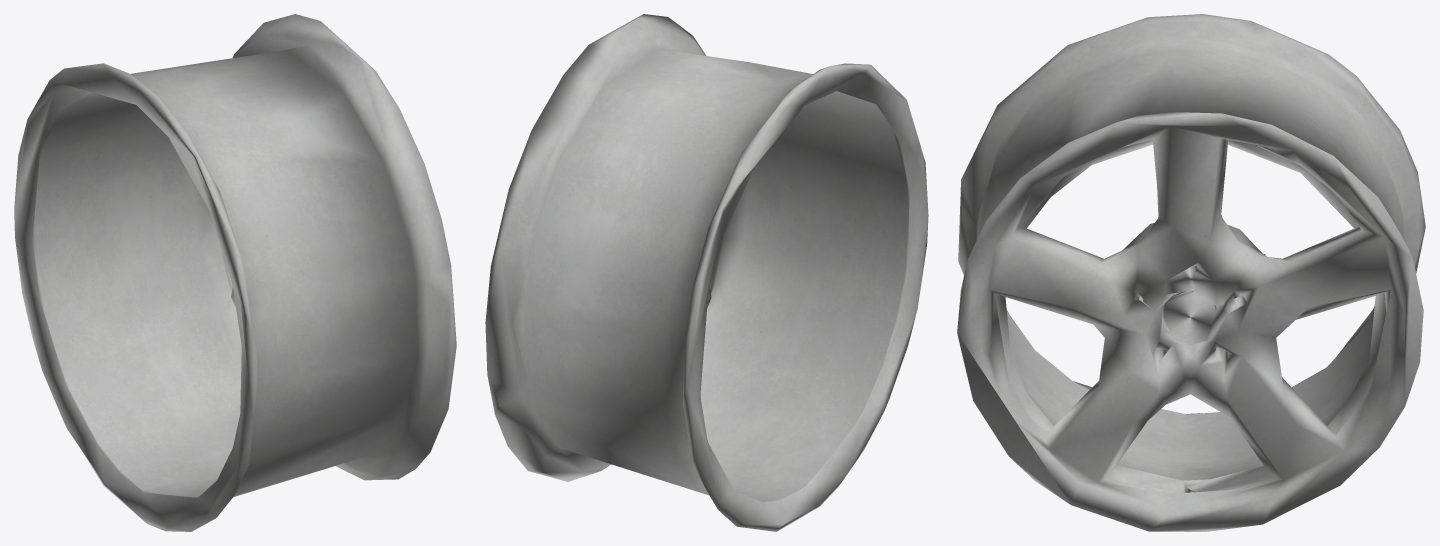
Rendered from wheelAssembly_wheel_rim_a01.glb.
The picture shows the model from 3 angles, left to right: view 1: azimuth 30°, elevation 25°; view 2: azimuth 150°, elevation 25°; view 3: azimuth 270°, elevation 25°; orthographic projection. The views are drawn at different scales.
Parts seen in each view (by area): view 1: wheelRim_01_mesh_00; view 2: wheelRim_01_mesh_00; view 3: wheelRim_01_mesh_00.
Part boxes in pixels (<box>): wheelRim_01_mesh_00: <box>14,14,456,531</box>; wheelRim_01_mesh_00: <box>485,14,928,531</box>; wheelRim_01_mesh_00: <box>957,14,1425,531</box>.
Size of the model in its own units: 0.2546 by 0.5035 by 0.5031.
1 material, 1 textured.
